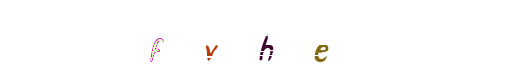E: (241, 0, 321, 80)
F: (176, 0, 256, 80)
H: (226, 0, 306, 80)
V: (214, 0, 294, 80)
